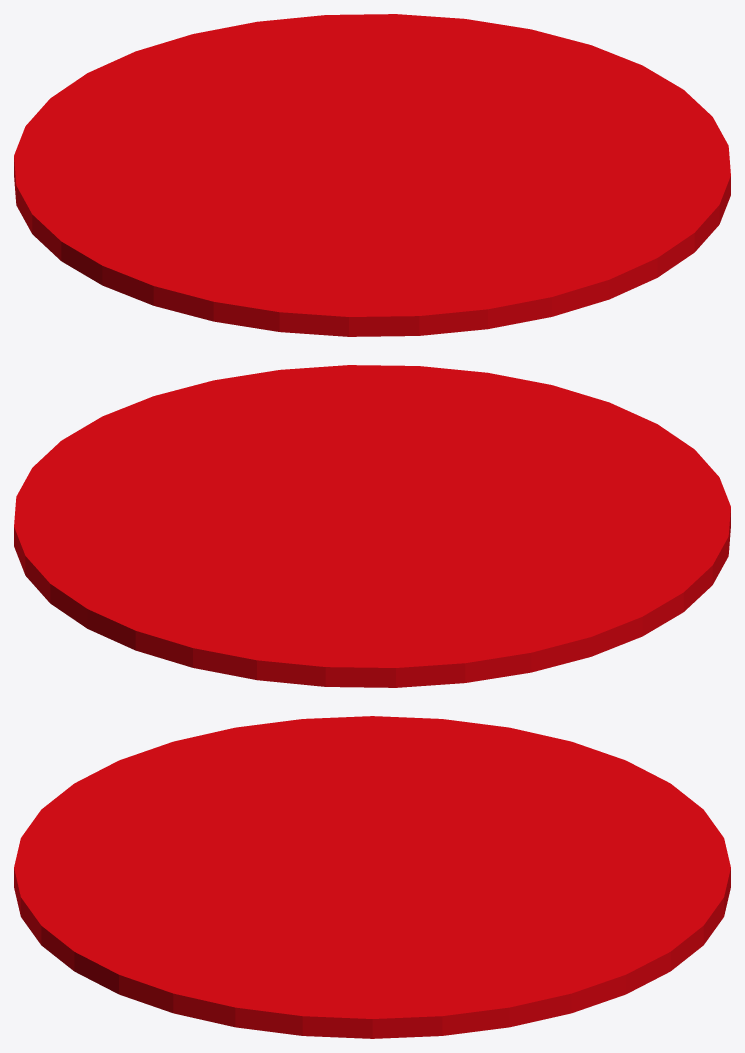
The model's file is red_target.fbx.
3 renders of one model, top to bottom at view 1: azimuth 30°, elevation 25°; view 2: azimuth 150°, elevation 25°; view 3: azimuth 270°, elevation 25°, orthographic.
Parts seen in each view (by area): view 1: Circle.003; view 2: Circle.003; view 3: Circle.003.
Boxes of the visible parts, x1,y1,x2,y2 form: Circle.003: (14,14,730,336); Circle.003: (14,365,730,687); Circle.003: (14,716,730,1038).
Size of the model in its own units: 200 by 6.1 by 200.
